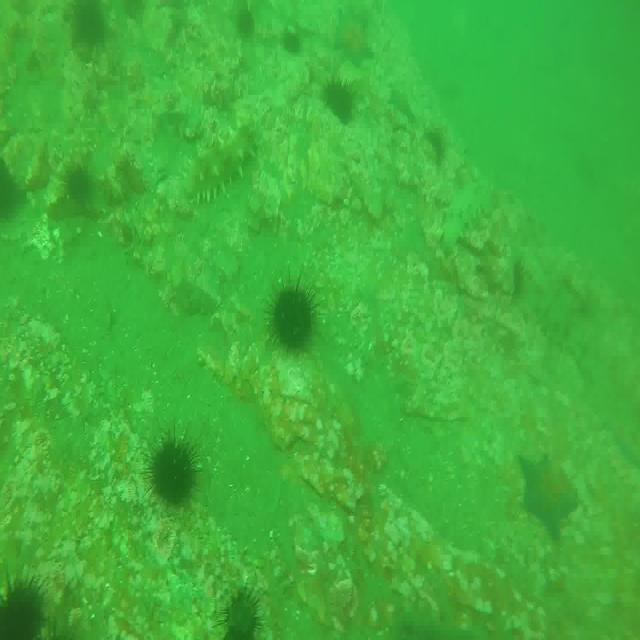echinus: (149, 437, 197, 508), (272, 281, 316, 355), (0, 580, 49, 640), (222, 585, 264, 640), (66, 5, 107, 52), (321, 79, 355, 128), (63, 162, 94, 205), (234, 7, 260, 48)
holothurian: (189, 123, 259, 205)
starfish: (520, 451, 576, 533), (332, 11, 377, 68)
